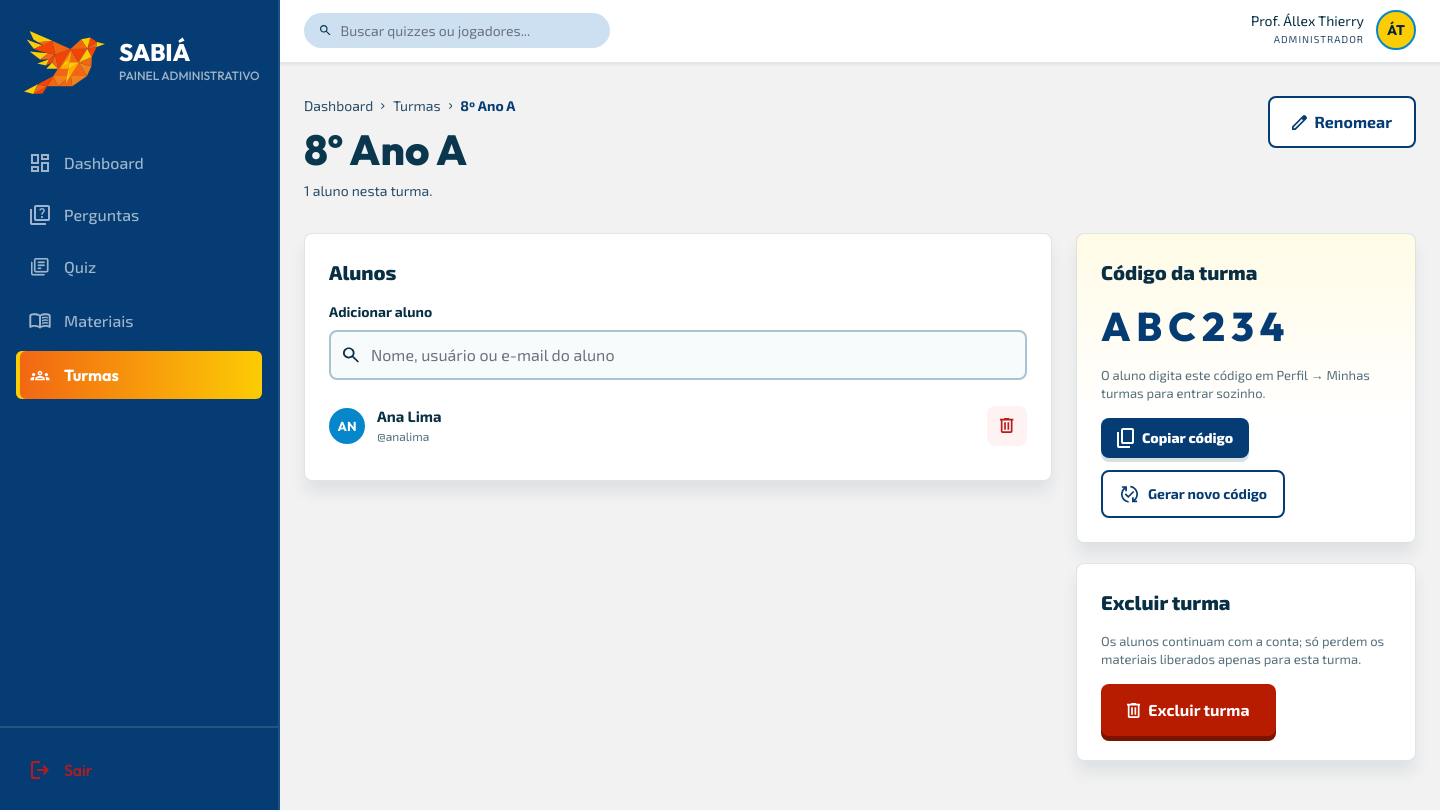
Turmas › exclui a turma e volta para a lista
Click the button "Excluir turma" at (1188, 710), box [1101, 684, 1276, 736]
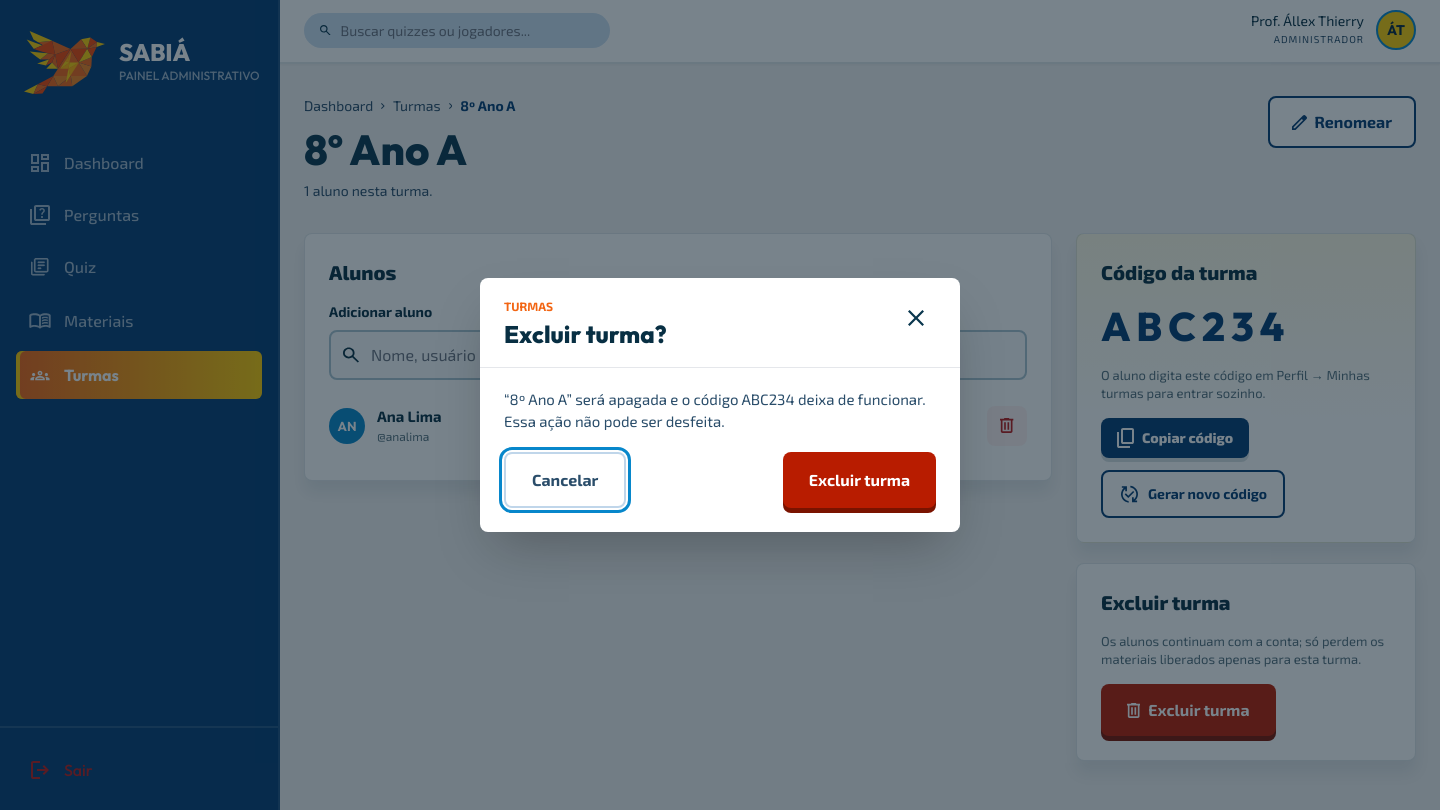
Click the button "Excluir turma" at (859, 480), box [783, 452, 936, 508]
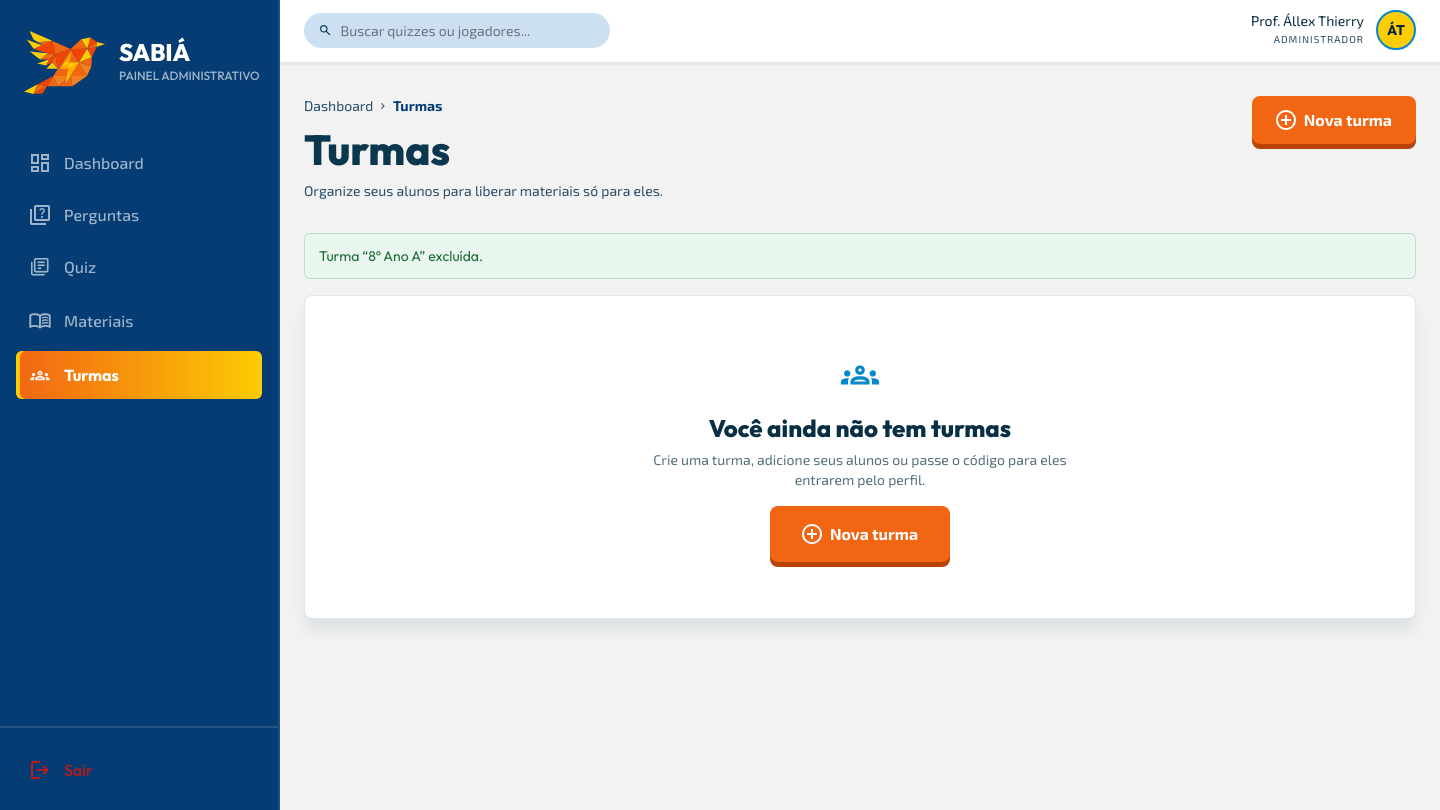
expect the text "Turma “8º Ano A” excluída." is shown: met, box [304, 233, 1416, 279]
